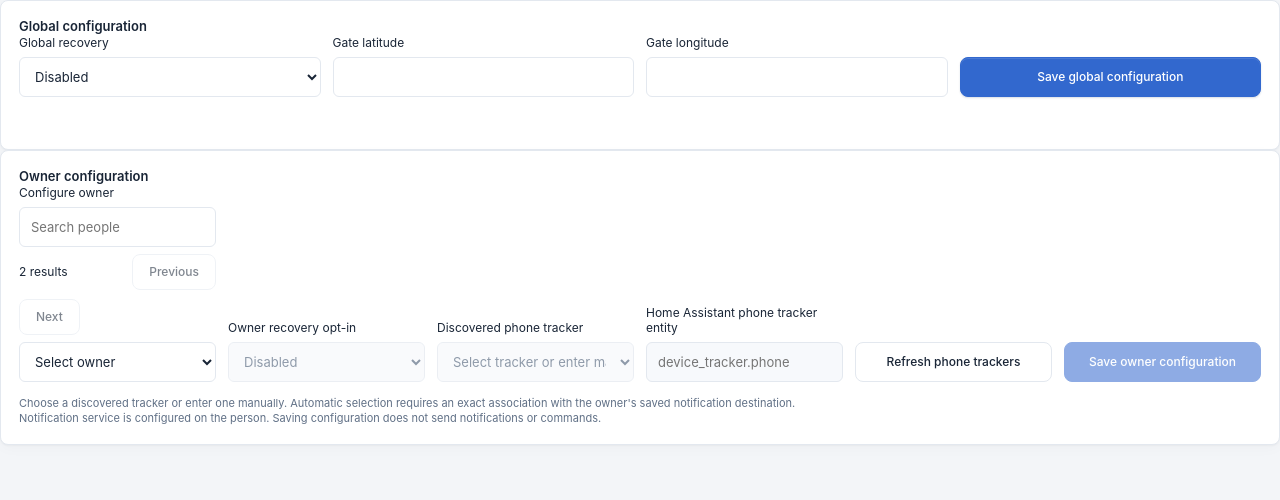
it: keeps a rejected global save editable across later refreshes
Select "Enabled" in the dropdown labelled "Global recovery" at coordinates (170, 77), box [19,57,320,97]
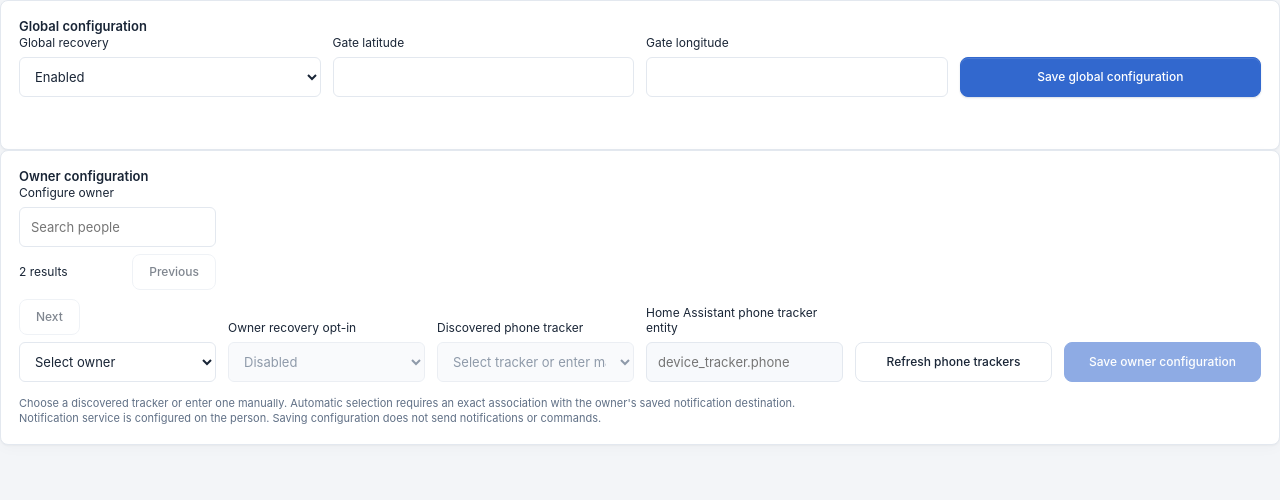
Type "51.5" into the number field labelled "Gate latitude" at coordinates (483, 77), box [332,57,634,97]
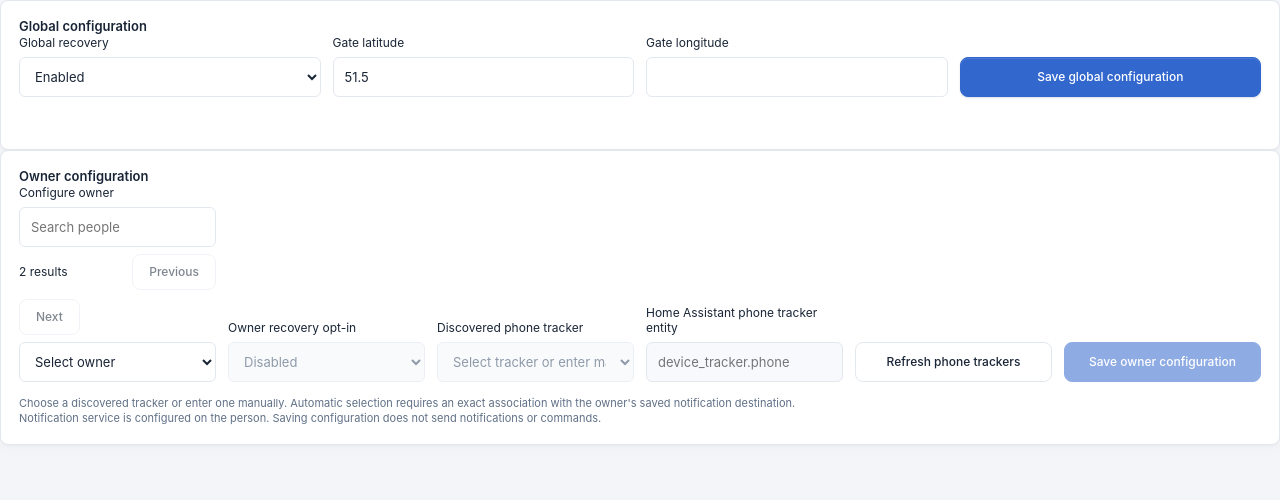
Type "-0.1" into the number field labelled "Gate longitude" at coordinates (797, 77), box [646,57,948,97]
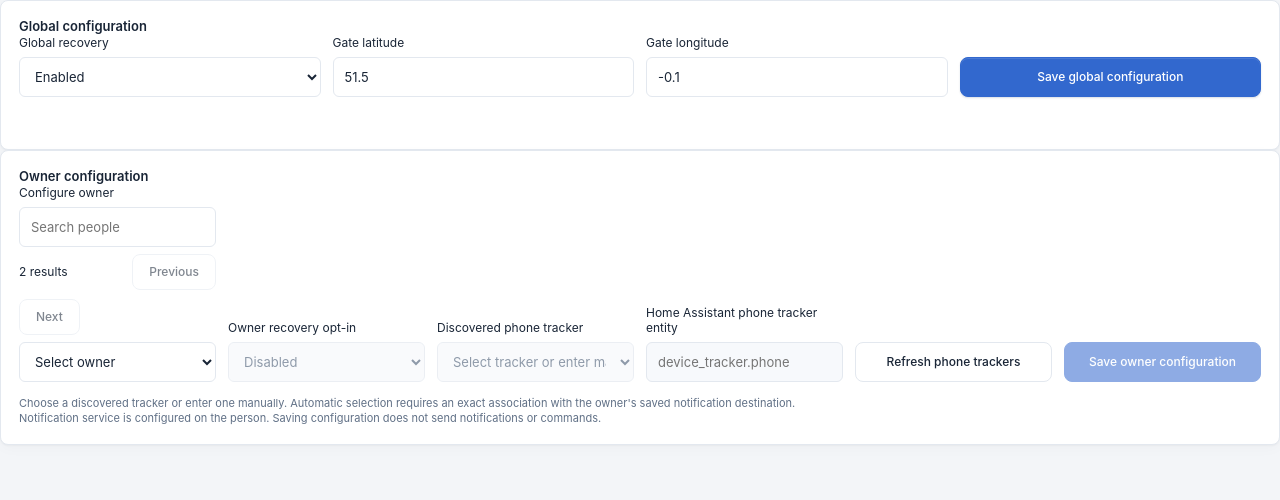
Click the button "Save global configuration" at coordinates (1110, 77), box [960,57,1261,97]
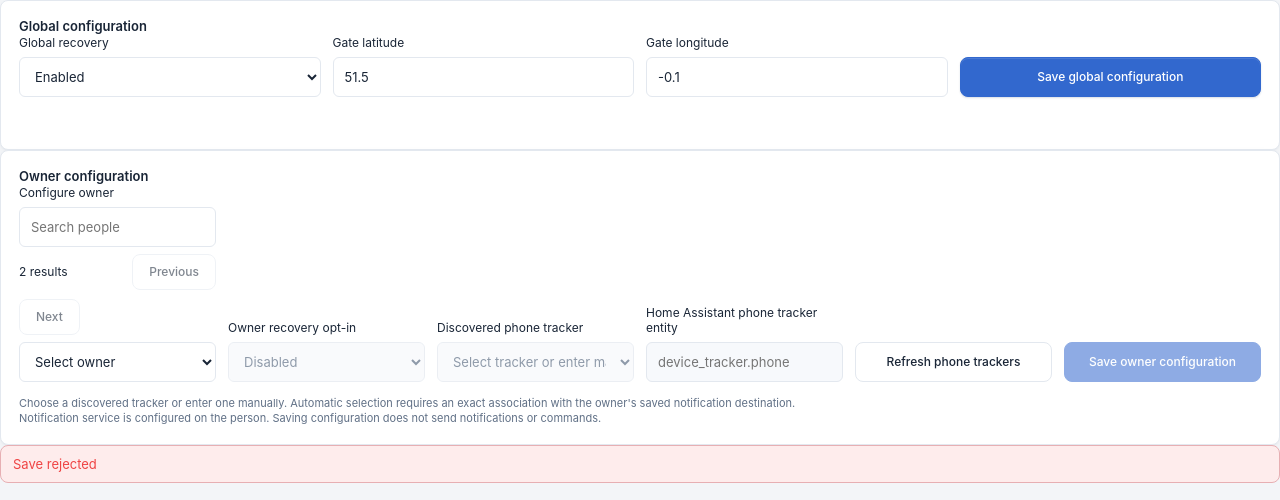
Now the message reads "Save rejected", box [13,456,97,472]
